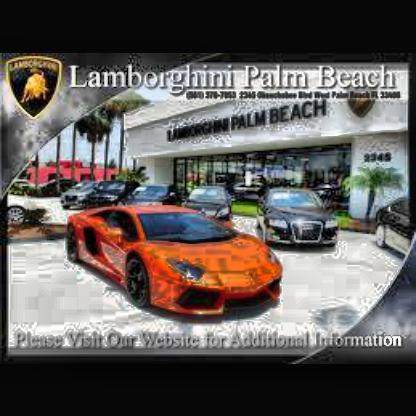Lamborghini Aventador Coupe 2012: (59, 199, 291, 329)
